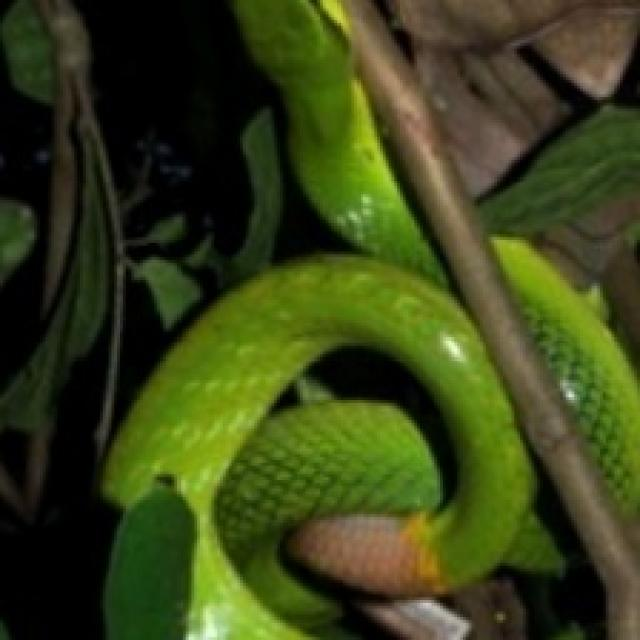red-tailed green ratsnake: (106, 3, 534, 637), (494, 237, 637, 526), (266, 343, 457, 511)
